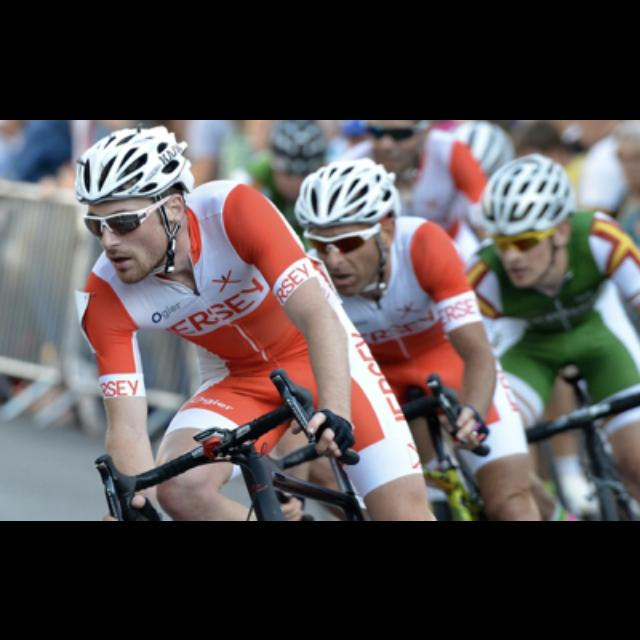With Helmet: (67, 125, 195, 287)
